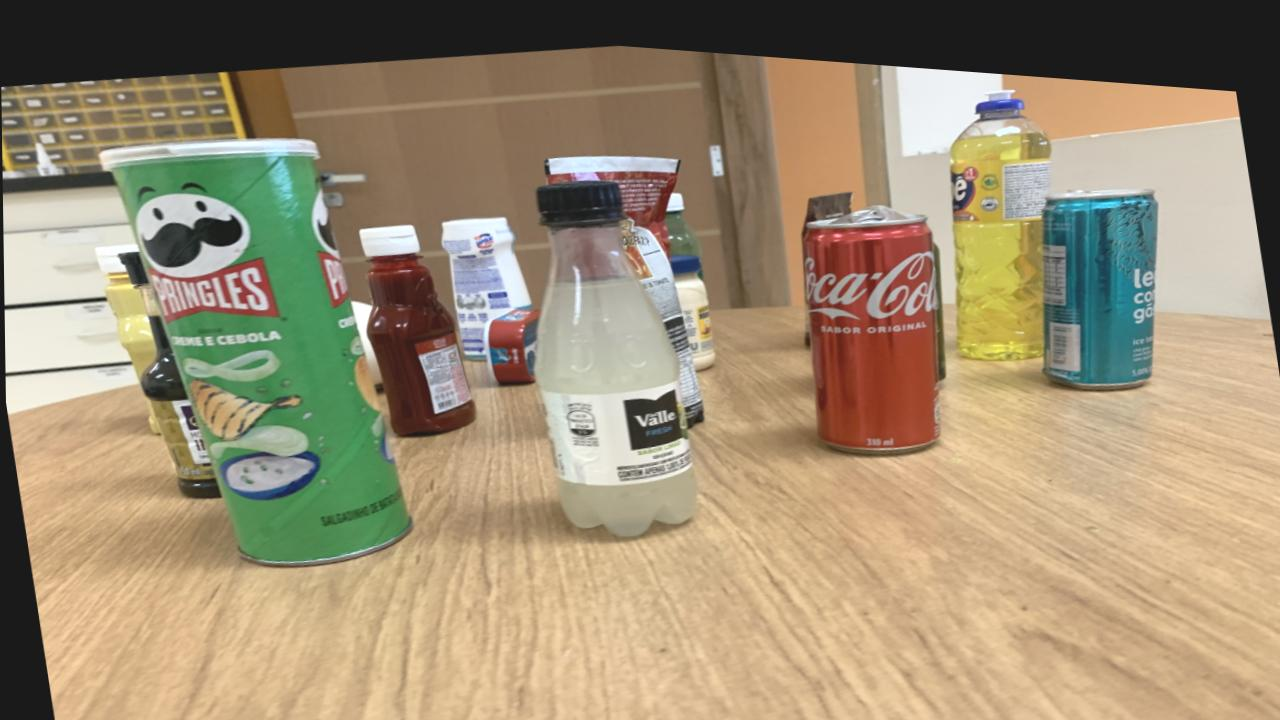Cleaner-Cleanup_Items: (441, 209, 529, 353)
Coffee-Pantry_Items: (803, 178, 852, 212)
Coke-Drinks: (802, 190, 944, 440)
Detergent-Cleanup_Items: (948, 74, 1051, 345)
English_Sauce-Pantry_Items: (120, 250, 218, 495)
Guarana-Drinks: (664, 182, 701, 245)
Ketchup-Pantry_Items: (358, 218, 475, 429)
Mayonnaise-Pantry_Items: (669, 242, 714, 359)
Mustard-Pantry_Items: (102, 268, 155, 375), (97, 245, 123, 267), (146, 400, 159, 432)
Pig_Safe-Miscellaneous: (349, 294, 381, 380)
Pringles-Snacks: (102, 134, 410, 560)
Soda-Drinks: (533, 172, 695, 526)
Tea-Drinks: (1041, 170, 1158, 372)
Tomato_Sauce-Pantry_Items: (543, 146, 703, 415), (543, 145, 680, 314), (679, 341, 702, 411)
Tuna_Can-Pantry_Items: (482, 299, 538, 375)
